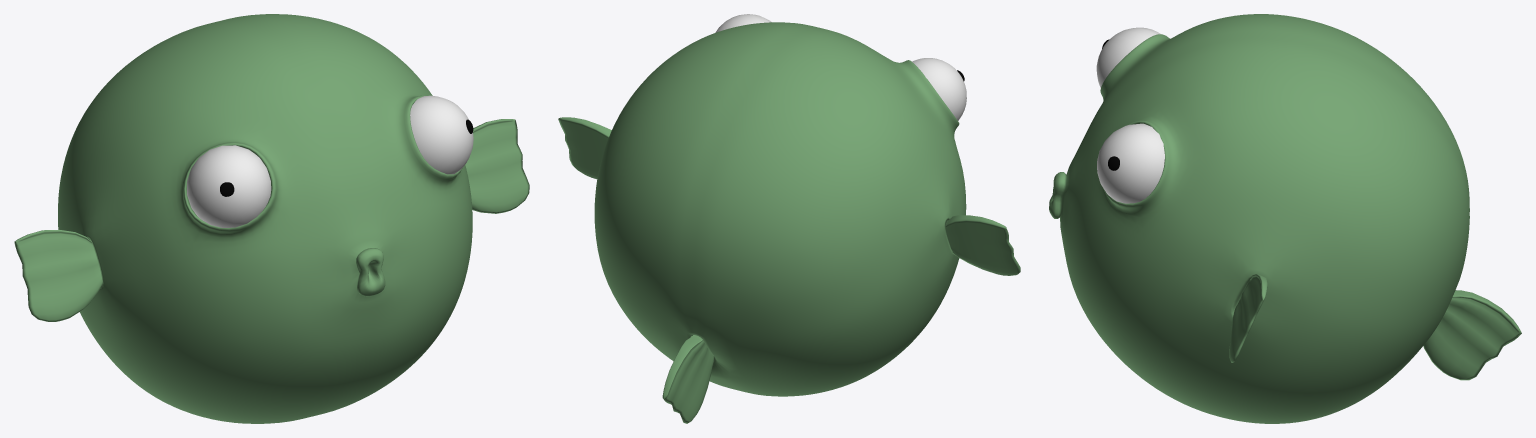
Rendered from pufferfish_bald_01.fbx.
3 renders of one model, left to right at view 1: azimuth 30°, elevation 25°; view 2: azimuth 150°, elevation 25°; view 3: azimuth 270°, elevation 25°, orthographic. The views are drawn at different scales.
Parts seen in each view (by area): view 1: pufferFish_highPoly1, high_fin_R5, eye_L, high_fin_R4, eye_R; view 2: pufferFish_highPoly1, high_fin_R5, high_fin_R3, high_fin_R4, eye_L, eye_R; view 3: pufferFish_highPoly1, high_fin_R3, eye_R, high_fin_R4, eye_L.
Part boxes in pixels (x1,y1,x2,y2): pufferFish_highPoly1: [58, 14, 472, 423]; high_fin_R5: [14, 229, 102, 321]; eye_L: [187, 145, 271, 227]; high_fin_R4: [465, 119, 529, 213]; eye_R: [410, 95, 473, 174]; pufferFish_highPoly1: [594, 22, 966, 396]; high_fin_R5: [945, 215, 1020, 275]; high_fin_R3: [662, 335, 713, 423]; high_fin_R4: [558, 117, 611, 179]; eye_L: [912, 58, 966, 120]; eye_R: [715, 14, 771, 32]; pufferFish_highPoly1: [1049, 14, 1469, 423]; high_fin_R3: [1423, 290, 1521, 380]; eye_R: [1097, 123, 1164, 203]; high_fin_R4: [1229, 274, 1267, 362]; eye_L: [1096, 27, 1160, 87].
Size of the model in its own units: 2.77 by 1.98 by 2.3.
